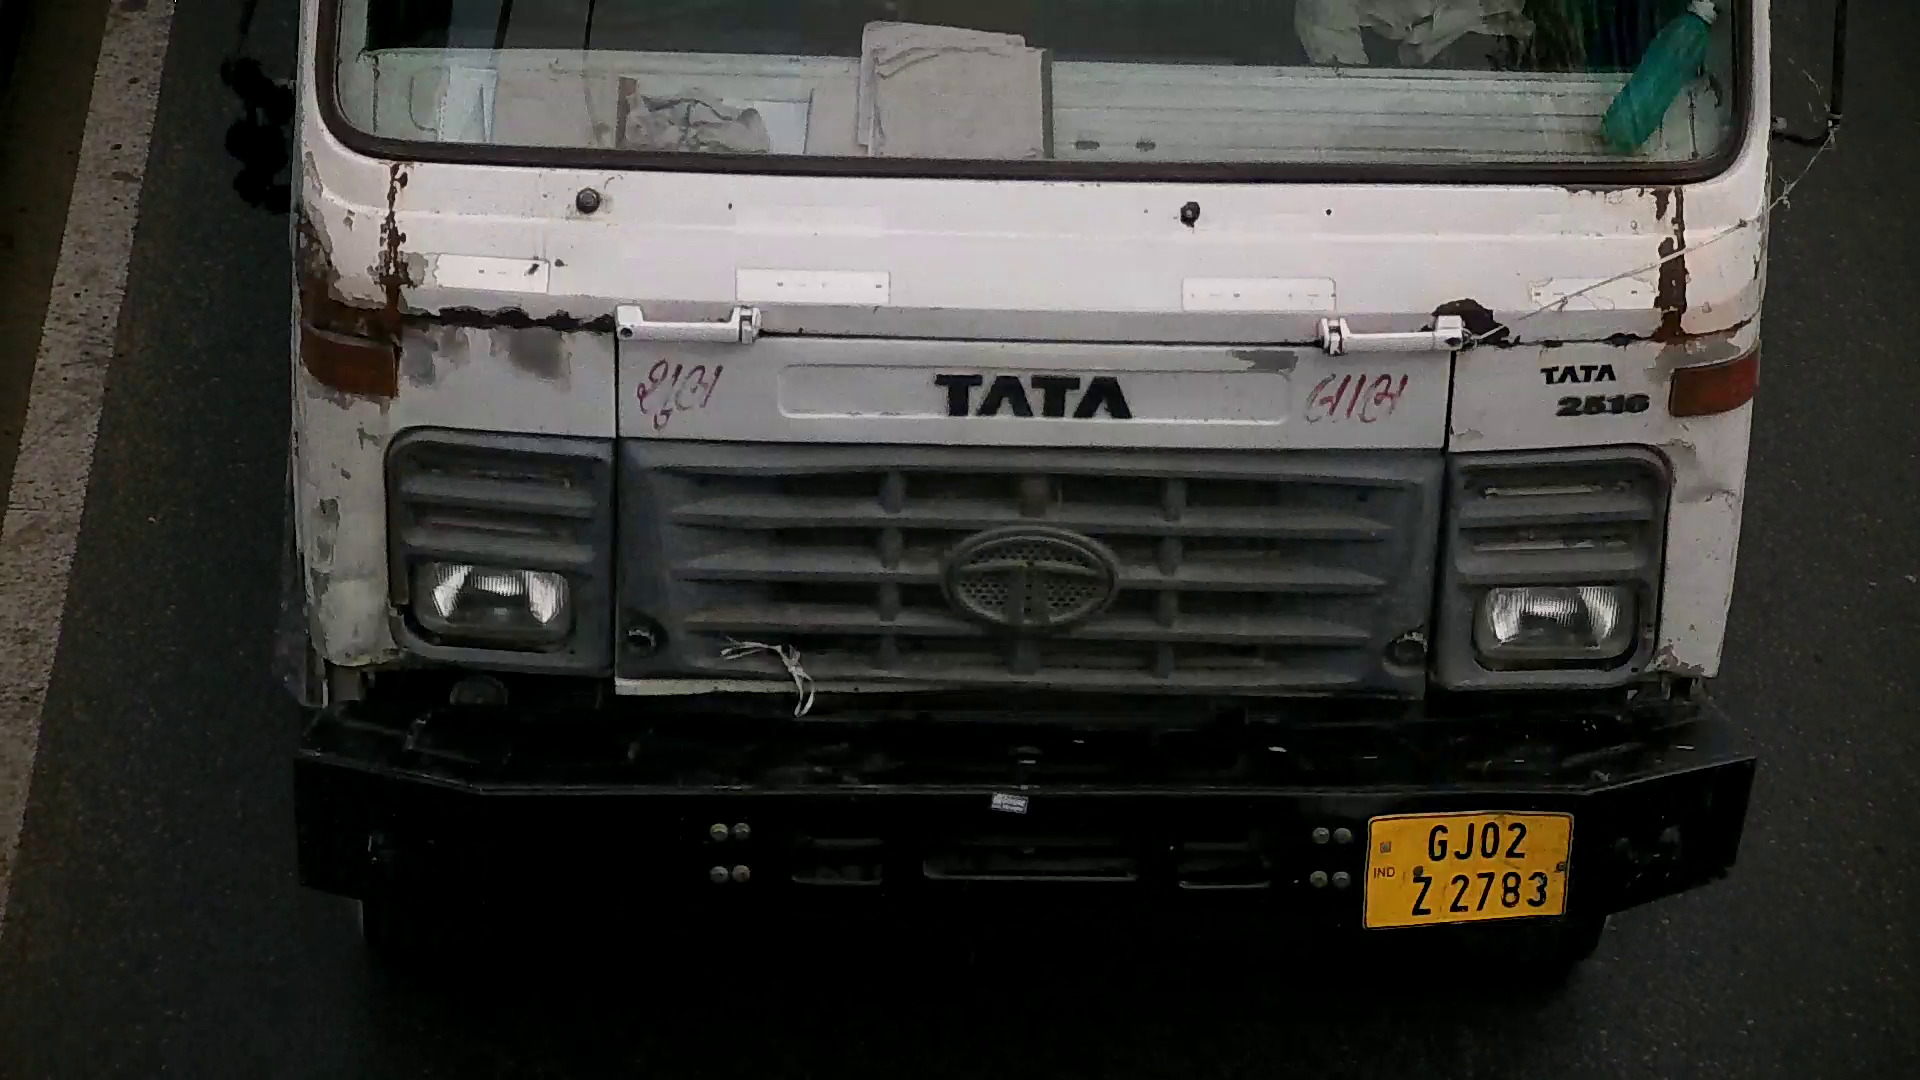doublelinenumberplate: (1362, 810, 1576, 934)
